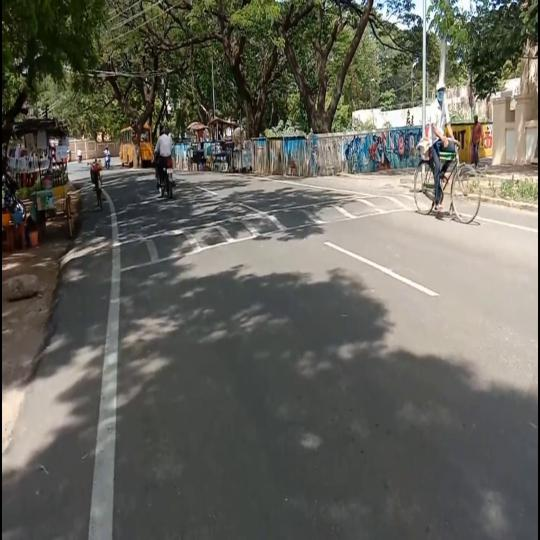Speed Bump: (59, 188, 451, 272)
